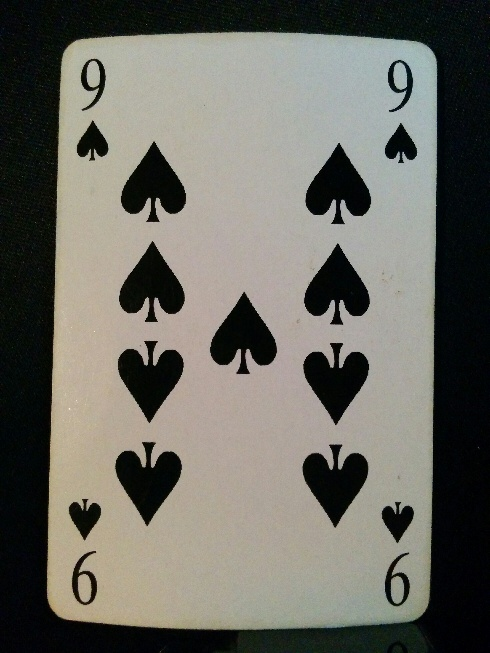S9: (64, 492, 111, 608), (382, 53, 424, 171), (375, 497, 418, 611), (74, 53, 111, 166)
